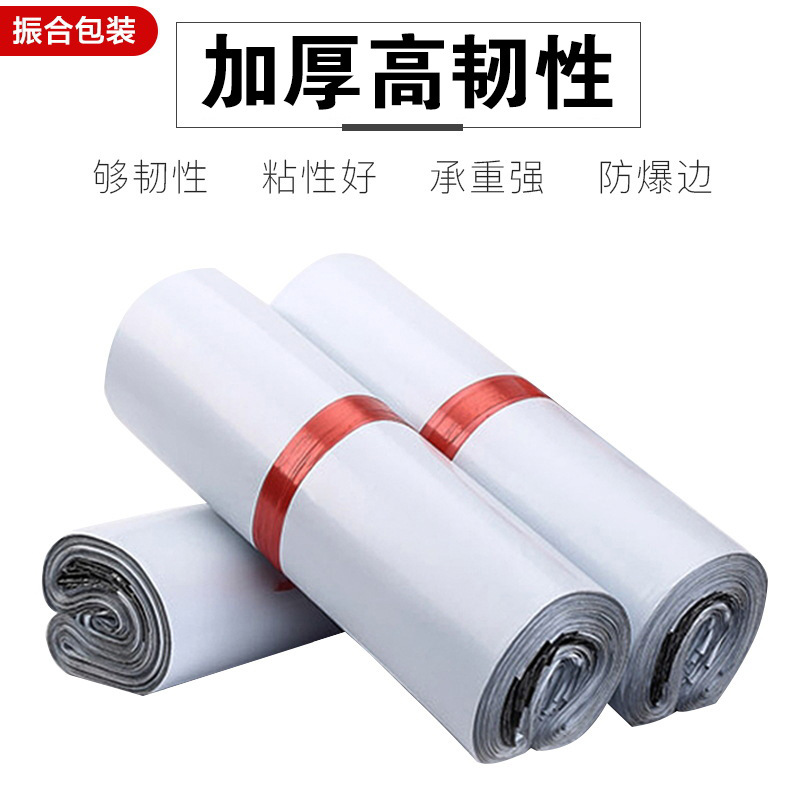Parcel: (23, 209, 800, 800)
